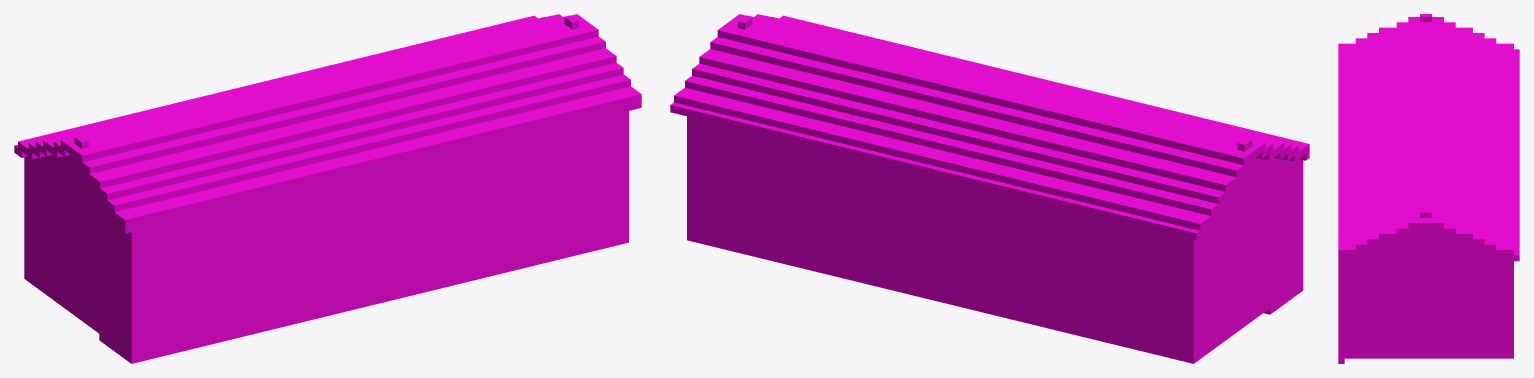
Rendered from low_poly_-_industrial_warehouse.glb.
The picture shows the model from 3 angles, left to right: view 1: azimuth 30°, elevation 25°; view 2: azimuth 150°, elevation 25°; view 3: azimuth 270°, elevation 25°; orthographic projection. The views are drawn at different scales.
Visible parts, largest first — view 1: col_wall_03, col_wall_04, col_wall_02, col_wall_05, col_wall_06, col_wall_08, col_wall_16, col_wall_17, col_wall_18, col_wall_19, col_wall_01, col_wall_20 (+36 smaller); view 2: col_wall_07, col_wall_11, col_wall_09, col_wall_10, col_wall_12, col_wall_08, col_wall_01, col_roof_92, col_roof_93, col_roof_95, col_roof_94, col_wall_21 (+39 smaller); view 3: col_wall_13, col_wall_14, col_wall_27, col_wall_28, col_roof_93, col_roof_94, col_roof_95, col_roof_92, col_roof_96, col_roof_40, col_roof_67, col_roof_61 (+76 smaller).
Boxes of the visible parts, box(x1,y1,x2,y2) form: col_wall_03: box(240, 207, 342, 337); col_wall_04: box(342, 182, 444, 312); col_wall_02: box(138, 231, 240, 362); col_wall_05: box(444, 157, 545, 287); col_wall_06: box(545, 137, 628, 262); col_wall_08: box(28, 176, 85, 322); col_wall_16: box(135, 189, 240, 256); col_wall_17: box(236, 164, 342, 231); col_wall_18: box(339, 139, 444, 206); col_wall_19: box(441, 115, 545, 181); col_wall_01: box(99, 235, 138, 363); col_wall_20: box(542, 95, 628, 157); col_wall_07: box(1089, 231, 1197, 363); col_wall_11: box(778, 154, 882, 287); col_wall_09: box(985, 205, 1089, 338); col_wall_10: box(882, 180, 985, 312); col_wall_12: box(687, 132, 778, 262); col_wall_08: box(1197, 211, 1255, 360); col_wall_01: box(1263, 183, 1303, 314); col_roof_92: box(1139, 117, 1265, 165); col_roof_93: box(1035, 91, 1160, 139); col_roof_95: box(828, 41, 953, 88); col_roof_94: box(932, 66, 1057, 114); col_wall_21: box(1089, 194, 1197, 255); col_wall_13: box(1414, 272, 1507, 358); col_wall_14: box(1344, 272, 1414, 358); col_wall_27: box(1414, 242, 1507, 272); col_wall_28: box(1344, 242, 1414, 272); col_roof_93: box(1408, 57, 1443, 98); col_roof_94: box(1408, 98, 1443, 138); col_roof_95: box(1408, 139, 1443, 179); col_roof_92: box(1408, 17, 1443, 57); col_roof_96: box(1408, 180, 1443, 220); col_roof_40: box(1385, 231, 1478, 245); col_roof_67: box(1379, 73, 1396, 114); col_roof_61: box(1455, 27, 1472, 68).
Bounding box in the file's own units: 0.2688 × 0.092 × 0.1.
